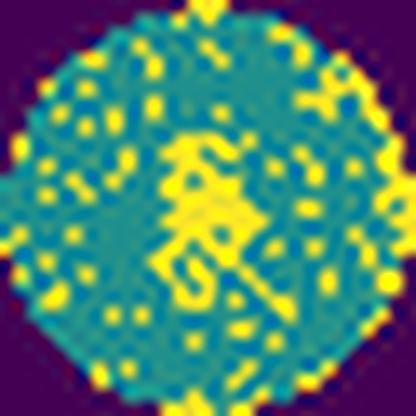Center: (150, 131, 310, 325)
